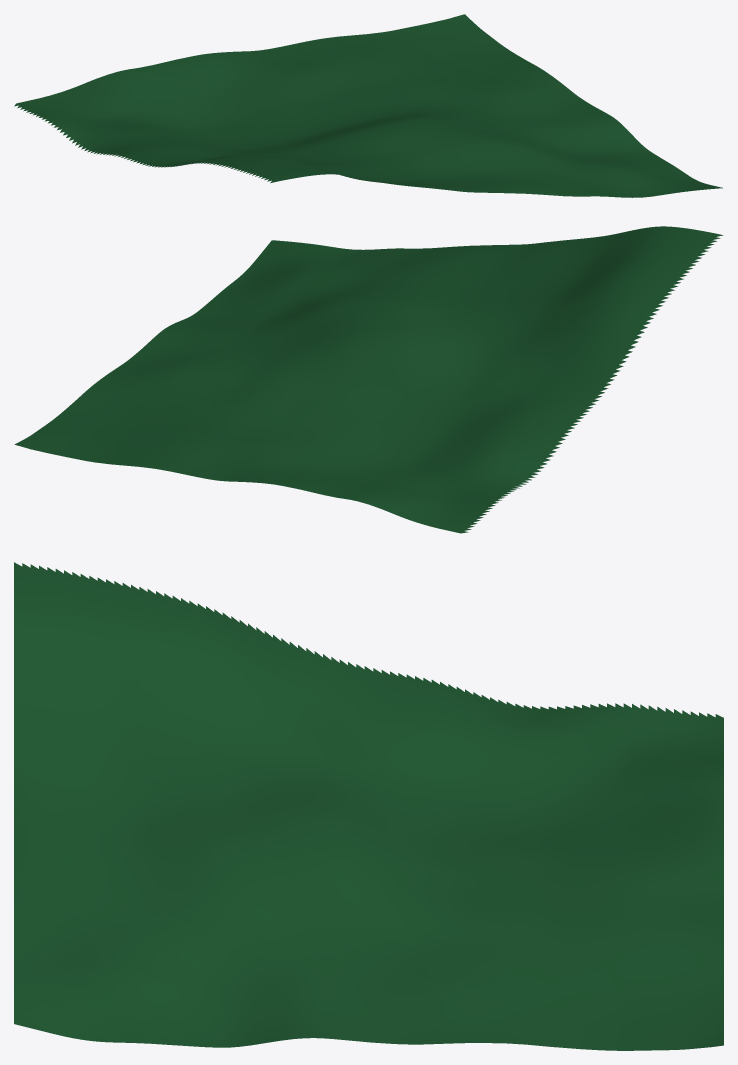
Rendered from payo_land_xm2_ym3_lod1.glb.
3 renders of one model, top to bottom at view 1: azimuth 30°, elevation 25°; view 2: azimuth 150°, elevation 25°; view 3: azimuth 270°, elevation 25°, orthographic. The views are drawn at different scales.
Visible parts, largest first — view 1: payo_land_xm2_ym3; view 2: payo_land_xm2_ym3; view 3: payo_land_xm2_ym3.
Part boxes in pixels (x1=…): payo_land_xm2_ym3: x1=14, y1=14, x2=722, y2=197; payo_land_xm2_ym3: x1=14, y1=226, x2=723, y2=533; payo_land_xm2_ym3: x1=14, y1=562, x2=723, y2=1050.
Bounding box in the file's own units: 258 × 73.38 × 255.
